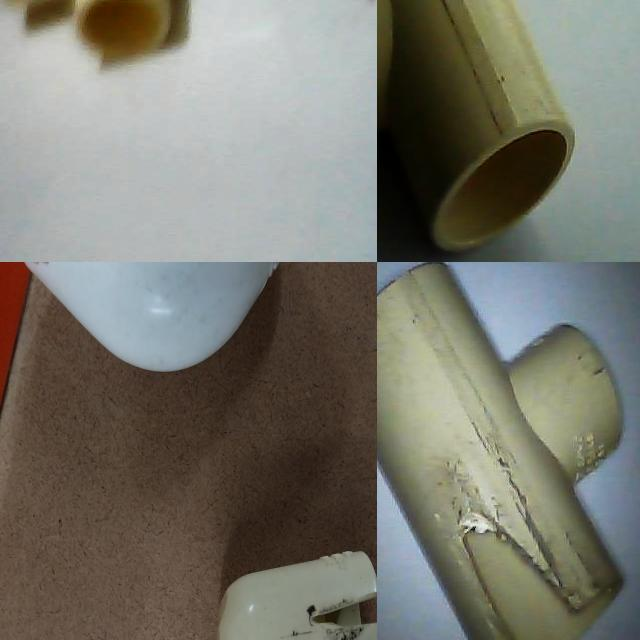Defective: (452, 520, 579, 640), (117, 429, 162, 532)
L Joint: (92, 425, 282, 640)
T Joint: (377, 262, 625, 640), (377, 0, 577, 256)
